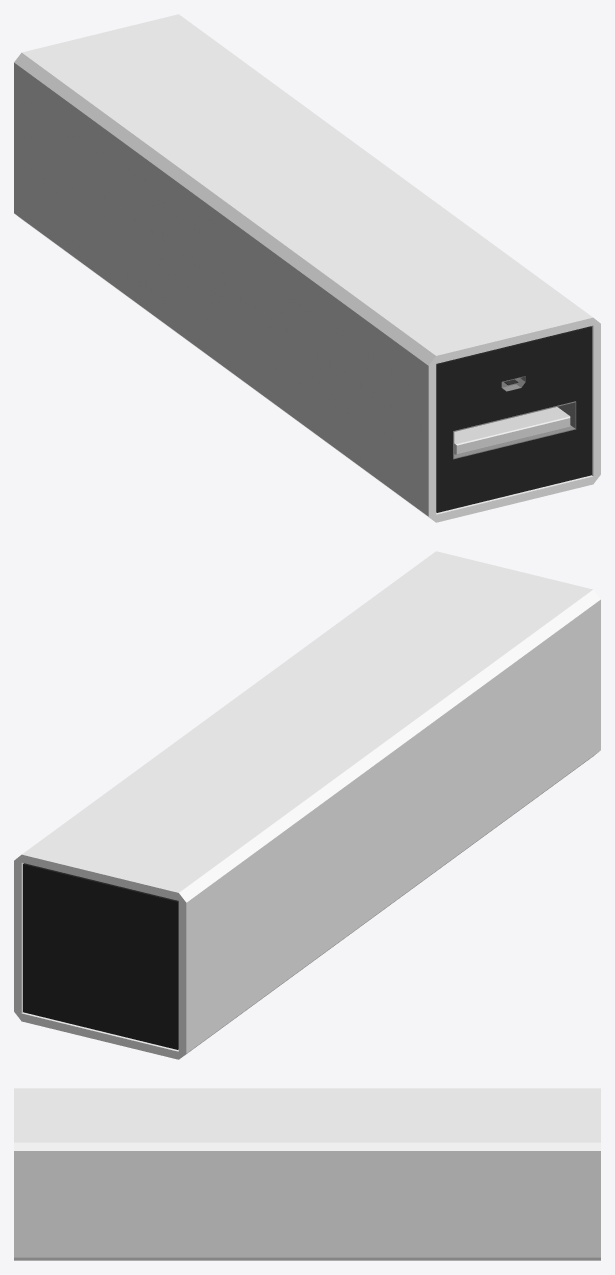
3 renders of one model, top to bottom at view 1: azimuth 30°, elevation 25°; view 2: azimuth 150°, elevation 25°; view 3: azimuth 270°, elevation 25°, orthographic. The views are drawn at different scales.
Size of the model in its own units: 2.35 by 2.17 by 9.78.
1 material, 1 textured.
